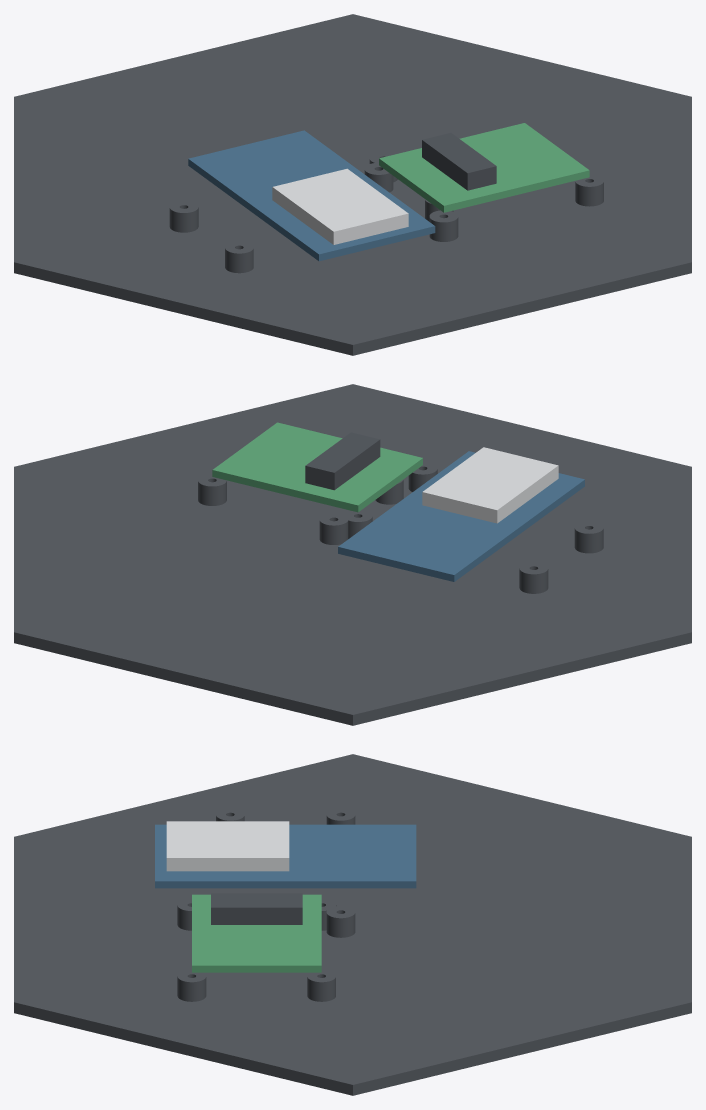
File: fase2_tapa.glb
3 views of the same model, one above another, from view 1: azimuth 30°, elevation 25°; view 2: azimuth 150°, elevation 25°; view 3: azimuth 270°, elevation 25° (orthographic).
Visible parts, largest first — view 1: =>[0:1:1:4], =>[0:1:1:6], =>[0:1:1:10], =>[0:1:1:8], =>[0:1:1:12]; view 2: =>[0:1:1:4], =>[0:1:1:6], =>[0:1:1:10], =>[0:1:1:8], =>[0:1:1:12]; view 3: =>[0:1:1:4], =>[0:1:1:6], =>[0:1:1:10], =>[0:1:1:8], =>[0:1:1:12].
Part boxes in pixels (x1,y1,x2,y2): =>[0:1:1:4]: [14, 14, 691, 355]; =>[0:1:1:6]: [188, 130, 435, 261]; =>[0:1:1:10]: [379, 123, 589, 212]; =>[0:1:1:8]: [272, 168, 408, 244]; =>[0:1:1:12]: [422, 133, 496, 190]; =>[0:1:1:4]: [14, 384, 691, 725]; =>[0:1:1:6]: [338, 451, 584, 581]; =>[0:1:1:10]: [212, 422, 422, 512]; =>[0:1:1:8]: [422, 447, 558, 523]; =>[0:1:1:12]: [305, 432, 380, 490]; =>[0:1:1:4]: [14, 754, 691, 1095]; =>[0:1:1:6]: [155, 824, 416, 888]; =>[0:1:1:10]: [192, 894, 321, 972]; =>[0:1:1:8]: [166, 821, 289, 871]; =>[0:1:1:12]: [211, 893, 302, 924].
Bounding box in the file's own units: 0.1628 × 0.0134 × 0.141.
